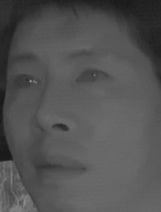eye: (72, 66, 113, 88), (9, 70, 42, 92)
mouth: (24, 147, 90, 188)
